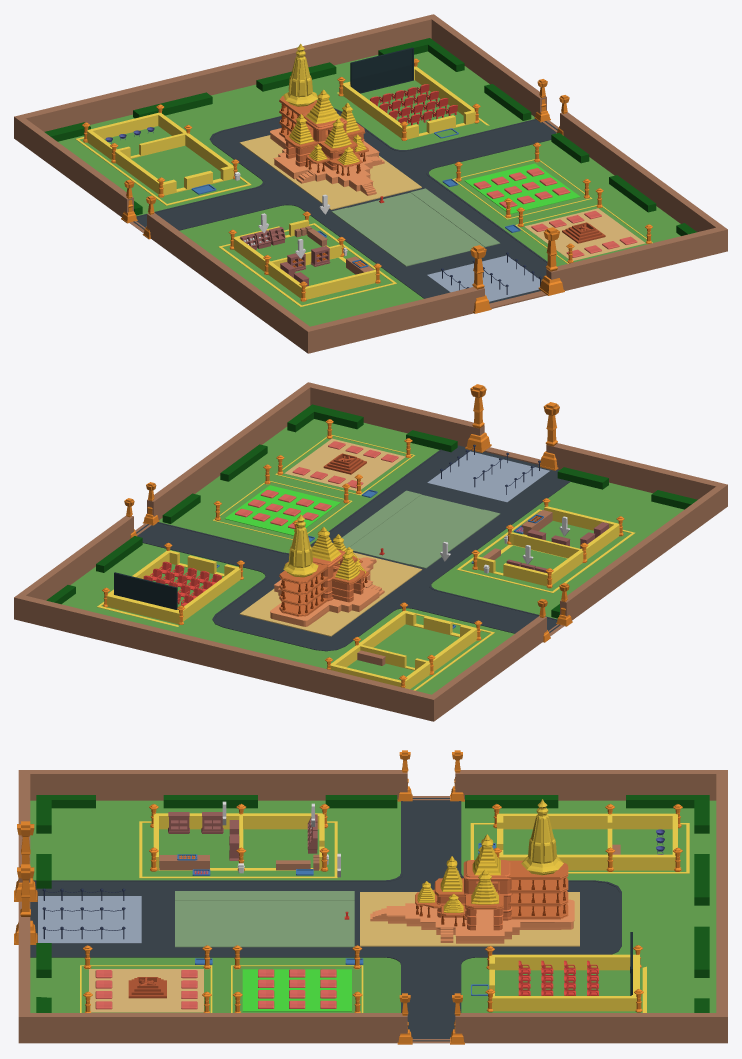
The model's file is RamMandirArena.fbx.
3 renders of one model, top to bottom at view 1: azimuth 30°, elevation 25°; view 2: azimuth 150°, elevation 25°; view 3: azimuth 270°, elevation 25°, orthographic. The views are drawn at different scales.
Parts seen in each view (by area): view 1: Plane.022, back wallBIG, Plane.005, Plane.008, Plane.007, Plane.035, Plane.023, Plane.034, Plane.015, pillars, Plane.028, Plane.018 (+15 smaller); view 2: back wallBIG, Plane.022, Plane.005, Plane.008, Plane.007, Plane.035, Plane.034, Plane.015, Plane.028, Plane.023, pillars, Plane.014 (+13 smaller); view 3: Plane.022, back wallBIG, Plane.005, Plane.008, Plane.007, Plane.035, Plane.015, Plane.028, Plane.023, Grid, Plane.014, Plane.027 (+18 smaller).
Part boxes in pixels (x1,y1,x2,y2): Plane.022: (58,51,680,326); back wallBIG: (14,14,727,353); Plane.005: (133,108,557,303); Plane.008: (331,188,500,266); Plane.007: (44,38,696,235); Plane.035: (87,112,233,195); Plane.023: (239,135,421,209); Plane.034: (233,220,376,299); Plane.015: (427,255,541,301); pillars: (121,79,569,313); Plane.028: (342,66,475,139); Plane.018: (289,89,366,165); back wallBIG: (14,382,727,721); Plane.022: (62,419,683,694); Plane.005: (136,445,570,651); Plane.008: (342,490,500,568); Plane.007: (46,404,697,618); Plane.035: (330,610,477,689); Plane.034: (476,506,619,586); Plane.015: (427,451,549,502); Plane.028: (106,550,240,623); Plane.023: (239,552,422,636); pillars: (124,384,572,642); Plane.014: (284,438,405,490); Plane.022: (30,800,716,1012); back wallBIG: (18,770,727,1043); Plane.005: (30,798,621,1041); Plane.008: (175,891,354,947); Plane.007: (36,795,709,1012); Plane.035: (497,813,677,870); Plane.015: (38,896,141,943); Plane.028: (489,954,639,1011); Plane.023: (360,892,579,946); Grid: (370,899,574,943); Plane.014: (89,969,203,1012); Plane.027: (242,969,351,1011).
Size of the model in its own units: 9171 by 2086 by 11094.
